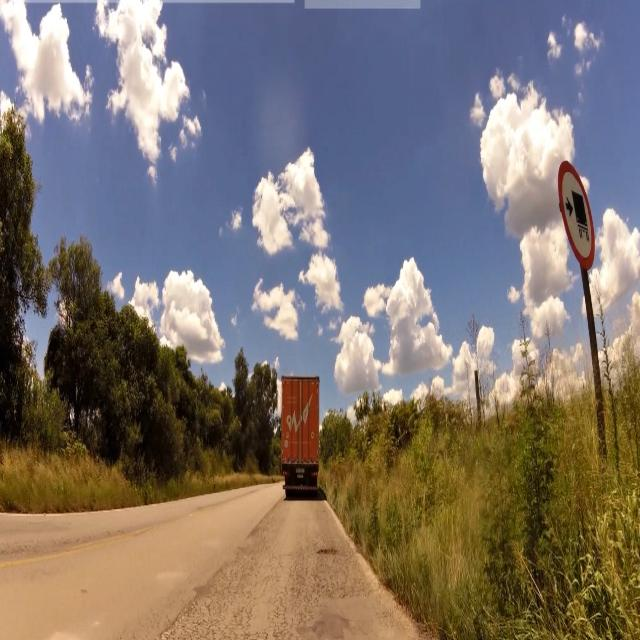R-7: (556, 156, 602, 276)
